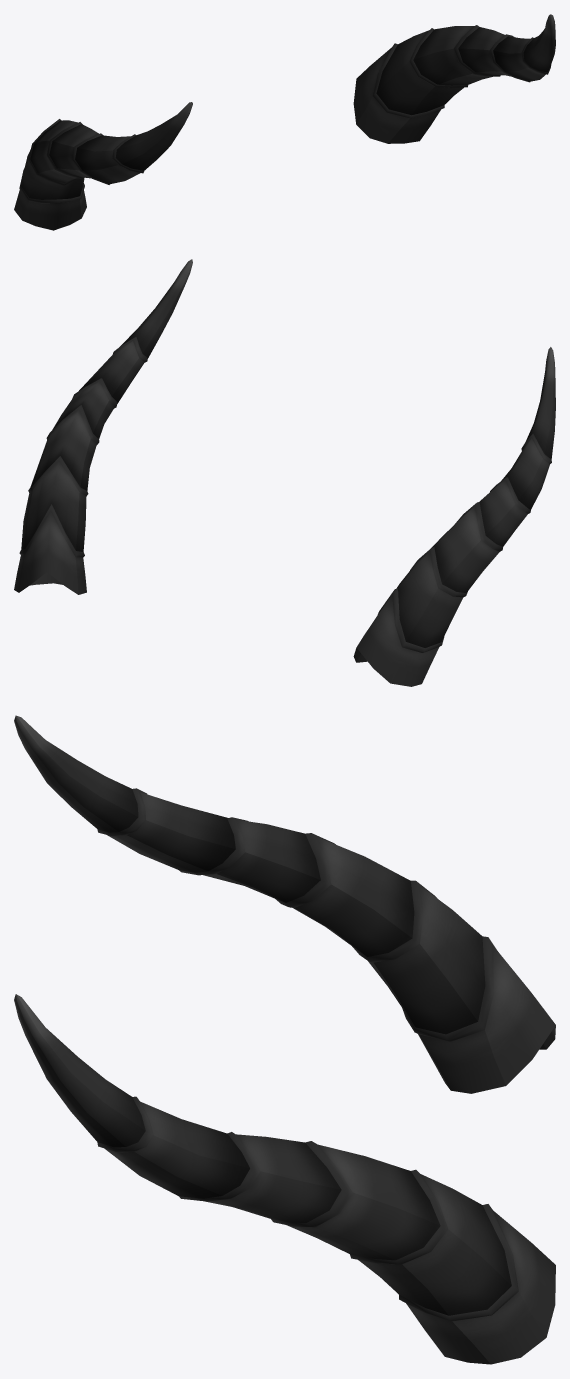
File: Horns_obsidian.glb
The picture shows the model from 3 angles, top to bottom: view 1: azimuth 30°, elevation 25°; view 2: azimuth 150°, elevation 25°; view 3: azimuth 270°, elevation 25°; orthographic projection. The views are drawn at different scales.
Parts seen in each view (by area): view 1: Cube; view 2: Cube; view 3: Cube.
Boxes of the visible parts, box(x1,y1,x2,y2) form: Cube: box(14, 14, 555, 230); Cube: box(14, 259, 555, 686); Cube: box(14, 715, 555, 1364).
Size of the model in its own units: 0.1695 by 0.0808 by 0.1102.
1 material, 1 textured.
